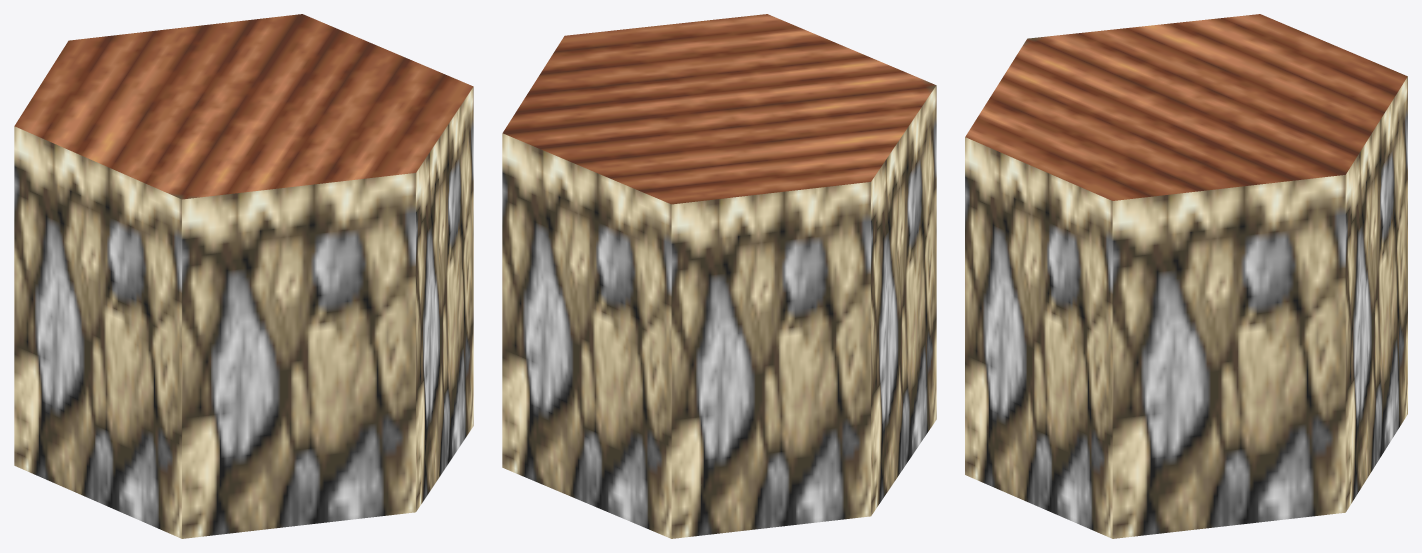
Rendered from pedestal.obj.
3 renders of one model, left to right at view 1: azimuth 30°, elevation 25°; view 2: azimuth 150°, elevation 25°; view 3: azimuth 270°, elevation 25°, orthographic.
Visible parts, largest first — view 1: pedestal; view 2: pedestal; view 3: pedestal.
Boxes of the visible parts, bbox=[...] form: pedestal: bbox=[14, 14, 473, 538]; pedestal: bbox=[502, 14, 936, 538]; pedestal: bbox=[965, 14, 1407, 538].
Size of the model in its own units: 114 by 96 by 114.
1 material, 1 textured.
